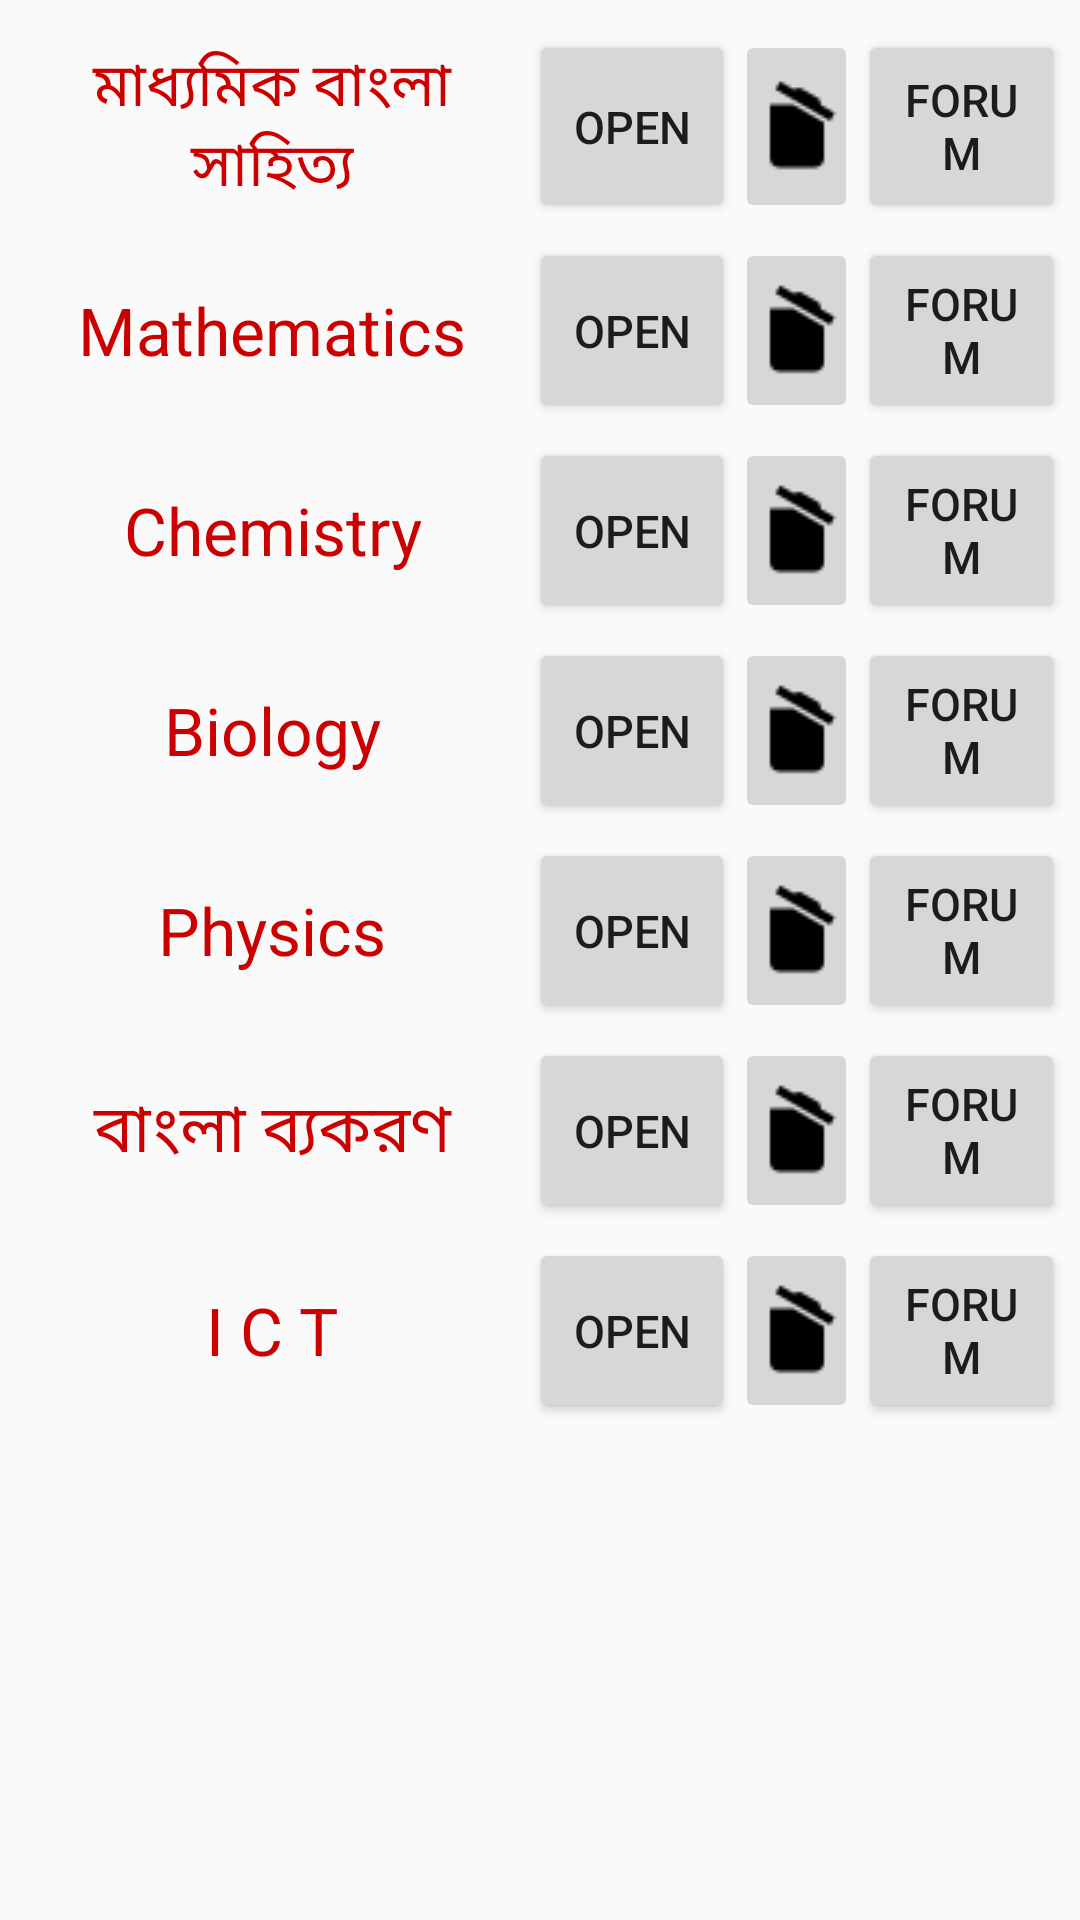

Named icons in this screenshot (1080x1920) and their bounding boxes, [x1,y1,x2,y2]:
delete: [747,48,846,205], [747,256,846,405], [747,456,846,605], [747,656,846,805], [747,856,846,1005], [747,1056,846,1205], [747,1256,846,1405]
